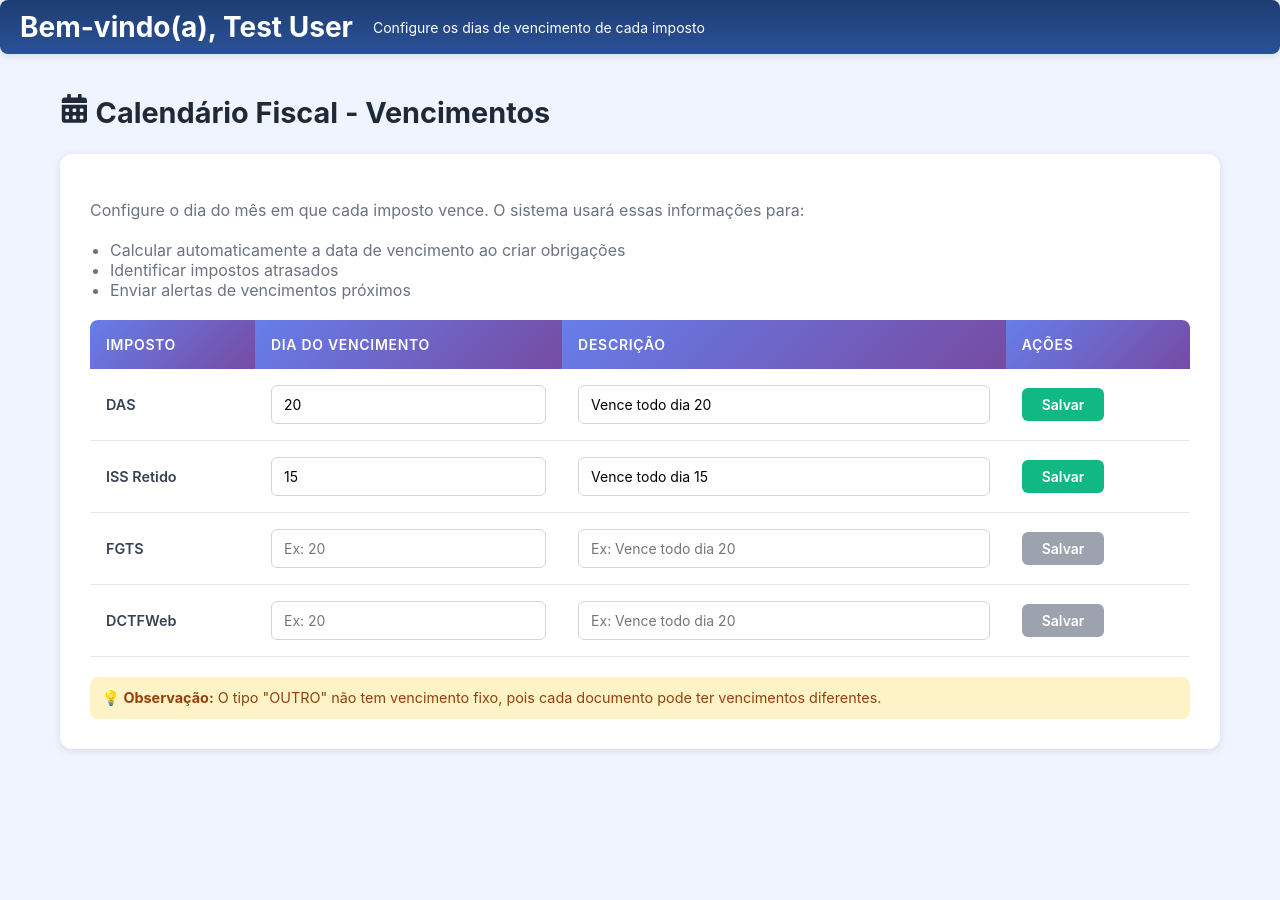
Test: TaxCalendarManagement.jsx - 100% Coverage › deve salvar vencimento com sucesso
Replace the text in the number field showing "20" next to "DAS" with "25". click: (409, 404)
box: [271,385,546,424]
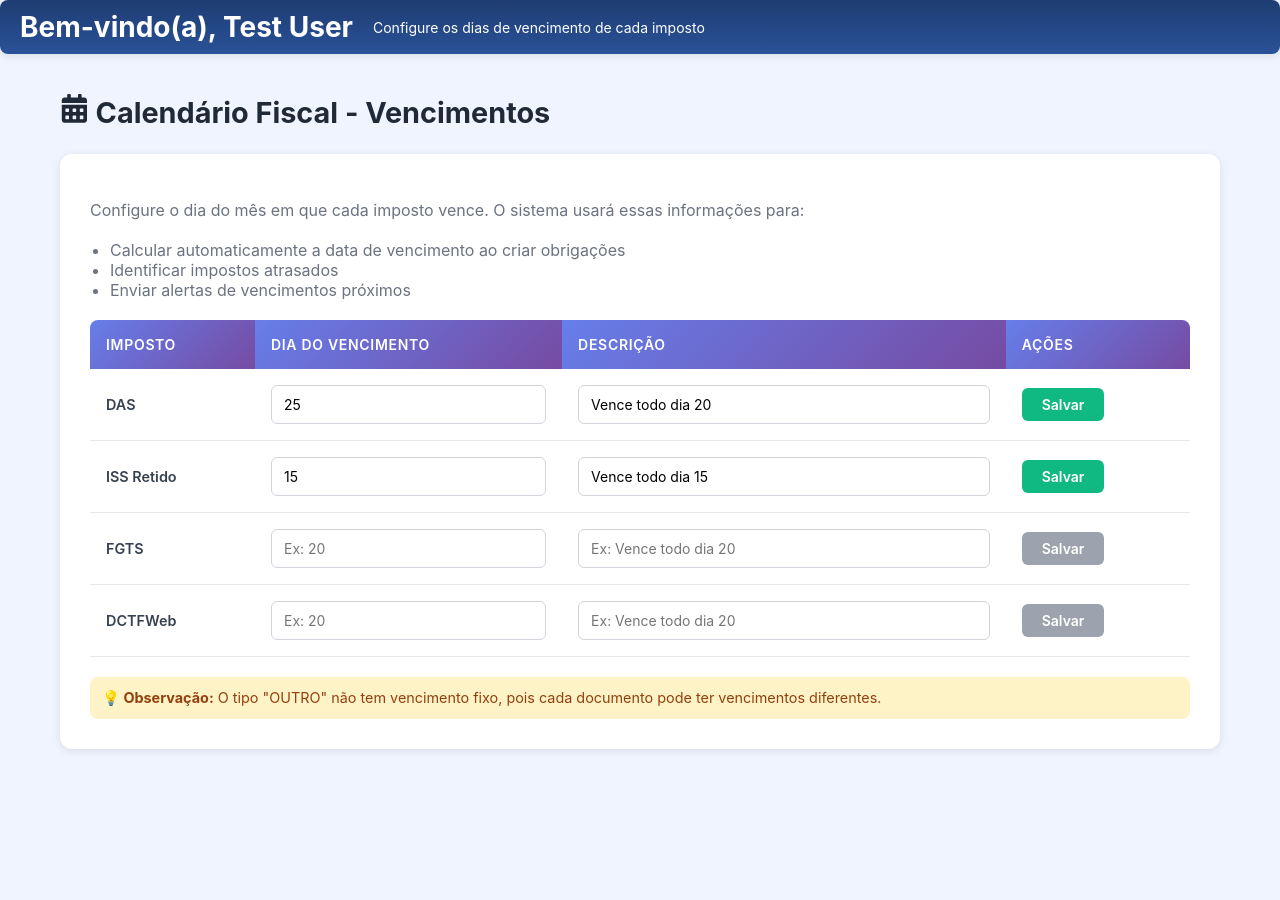
Click the button "Salvar" in the row of "DAS". click: (1063, 404)
box: [1022,388,1104,421]
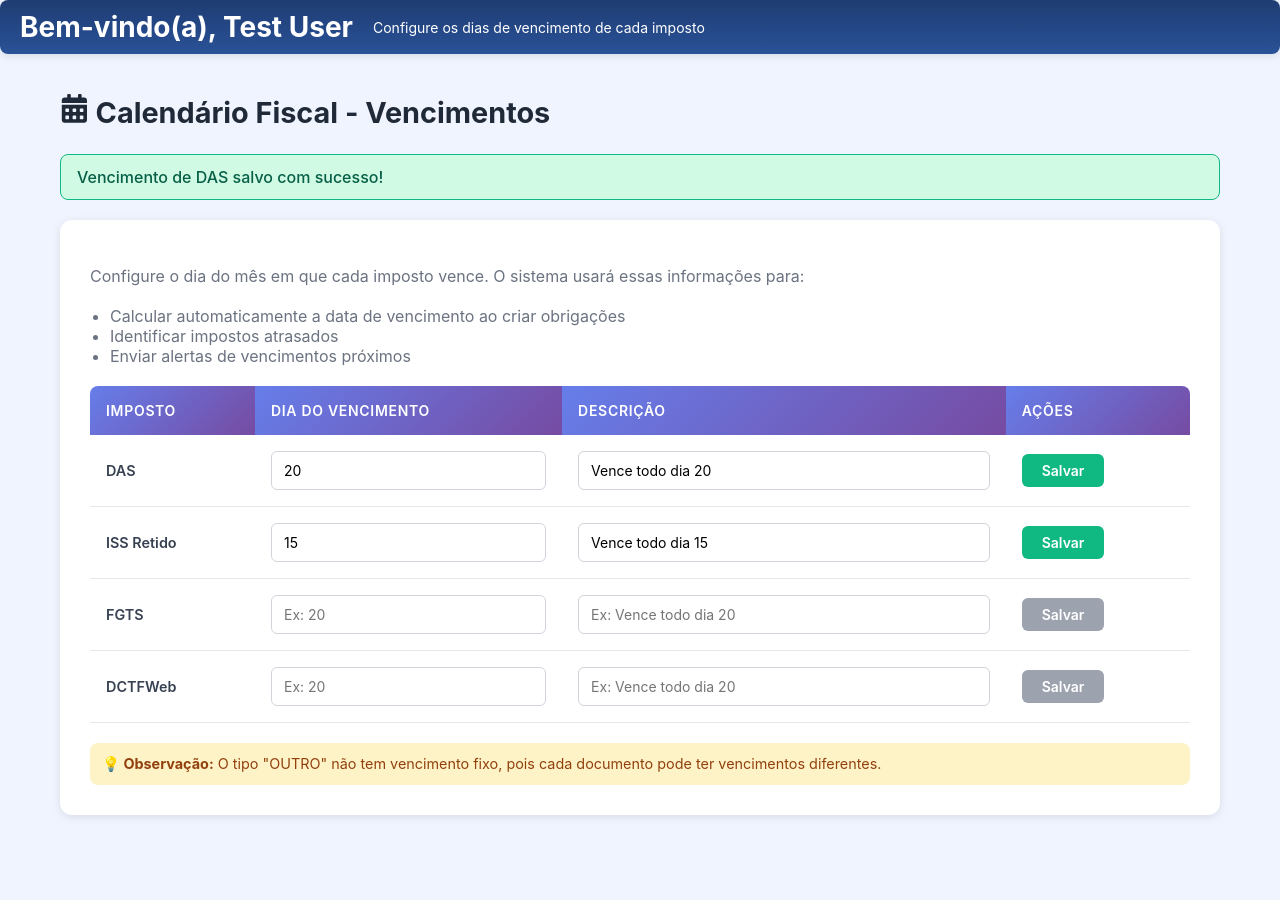
Check: the text "Vencimento de DAS salvo com sucesso!" is shown, box [60,154,1220,200]
